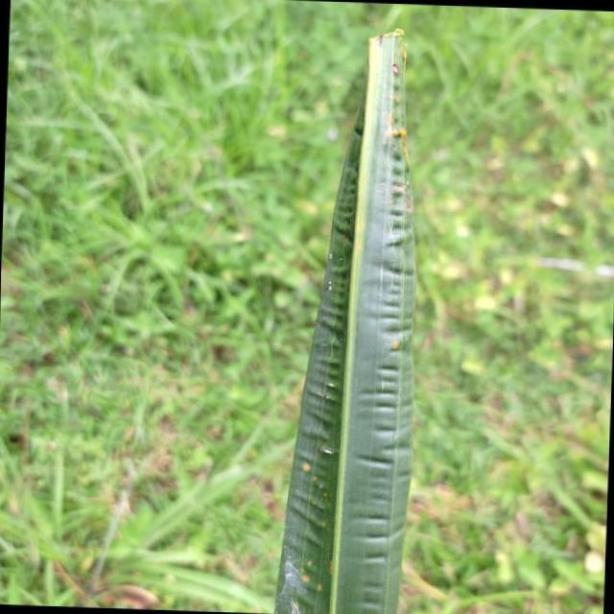Boron: (276, 22, 418, 614)
